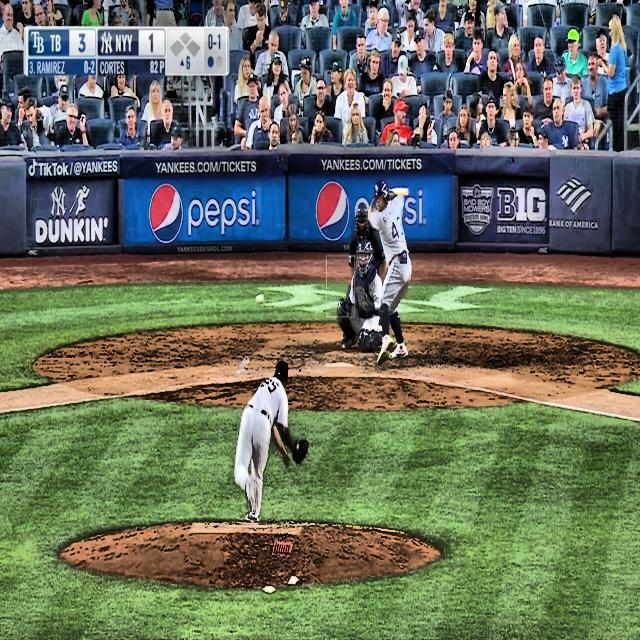baseball: (256, 293, 264, 304)
